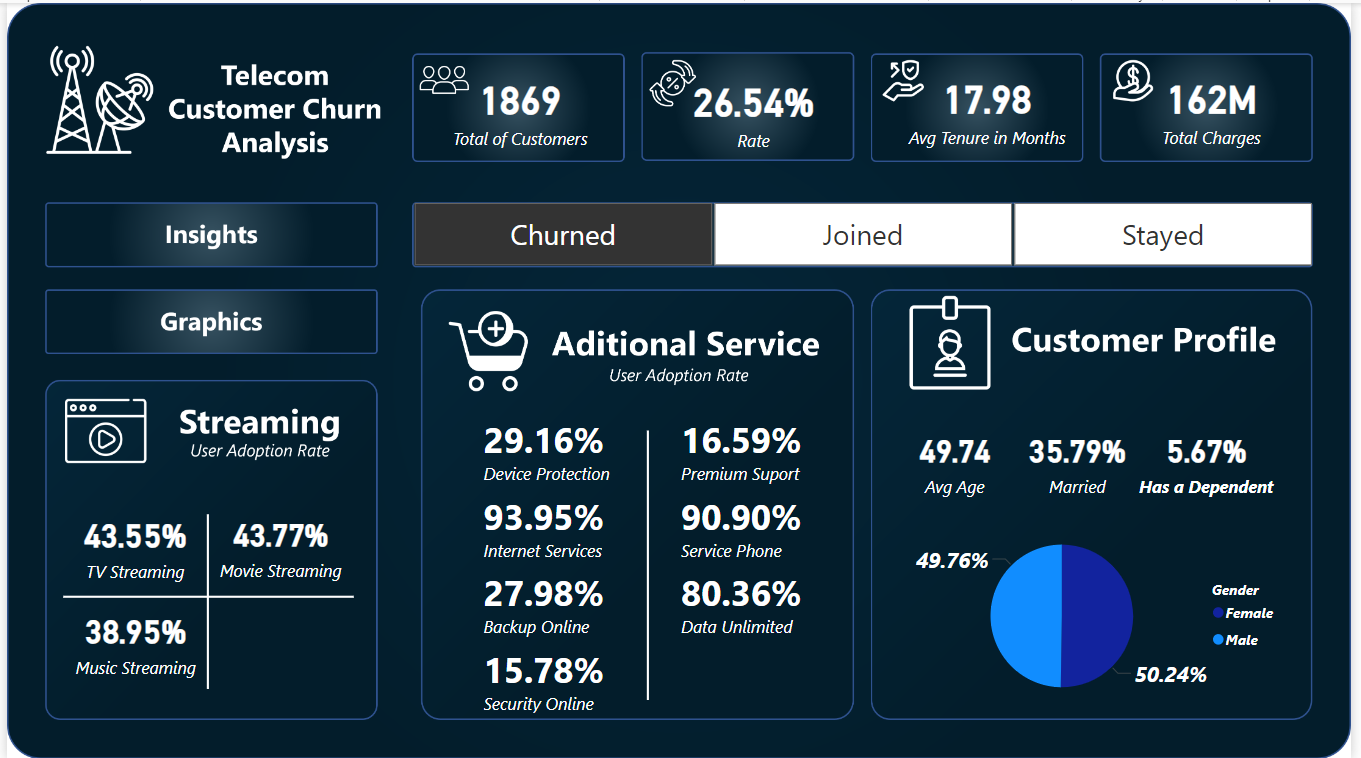

The page's visual inventory and layout, read from the dashboard file:
{"tool":"powerbi","page":{"name":"Page 1","canvas":[1280,720],"ordinal":0},"visuals":[{"type":"pieChart","fields":{"Category":["telecom_customer_churn.Gender"],"Y":["telecom_customer_churn.Total_Customers"]},"box":[856.7,488.3,363.3,191.7],"z":0},{"type":"card","fields":{"Values":["telecom_customer_churn.Married_Churned"]},"box":[968.3,390,103.3,91.7],"z":1000},{"type":"card","fields":{"Values":["telecom_customer_churn.Dependents_Churned"]},"box":[1071.7,390,141.7,91.7],"z":2000},{"type":"card","fields":{"Values":["telecom_customer_churn.Customer_Avg_Age"]},"box":[851.7,390,103.3,91.7],"z":3000},{"type":"multiRowCard","fields":{"Values":["telecom_customer_churn.Device_Protection","telecom_customer_churn.Internet_Services","telecom_customer_churn.Backup_Online","telecom_customer_churn.Security_Online"]},"box":[448.3,388.3,163.3,293.3],"z":4000},{"type":"card","fields":{"Values":["telecom_customer_churn.Total_Customers"]},"box":[406,55.2,165.7,91],"z":5000},{"type":"card","fields":{"Values":["Sum(telecom_customer_churn.Total Charges)"]},"box":[1063.3,53.3,168.3,91.7],"z":6000},{"type":"card","fields":{"Values":["telecom_customer_churn.Percentage_Selected_Status"]},"box":[611.9,56.7,198.5,91],"z":7000},{"type":"card","fields":{"Values":["telecom_customer_churn.Avg_Tenure_Months"]},"box":[843.3,53.3,181.7,91.7],"z":8000},{"type":"slicer","fields":{"Values":["telecom_customer_churn.Customer Status"]},"box":[361.7,183.3,905,73.3],"z":9000},{"type":"multiRowCard","fields":{"Values":["telecom_customer_churn.Premium_Tech_Suport","telecom_customer_churn.Service_Phone","telecom_customer_churn.Data_Unlimited"]},"box":[636.7,388.3,133.3,300],"z":10000},{"type":"card","fields":{"Values":["telecom_customer_churn.Music_Streaming"]},"box":[53.3,561.7,138.3,91.7],"z":11000},{"type":"card","fields":{"Values":["telecom_customer_churn.Movie_Streaming"]},"box":[191.7,470,138.3,91.7],"z":12000},{"type":"card","fields":{"Values":["telecom_customer_churn.TV_Streaming"]},"box":[30,470,185,91.7],"z":13000},{"type":"shape","box":[53.3,490,276.7,150],"z":14000},{"type":"shape","box":[98.3,486.7,185,166.7],"z":15000},{"type":"shape","box":[518.3,406.7,185,256.7],"z":16000},{"type":"actionButton","box":[33.3,183.3,318.3,73.3],"z":17000},{"type":"actionButton","box":[33.3,271.7,318.3,61.7],"z":18000}]}

Visuals, with their boxes in screenshot pixels (x1, y1, x2, y2), scaled from the page's 1280x720 canvas onto the 1361x758 screenshot:
pieChart - telecom_customer_churn.Gender x telecom_customer_churn.Total_Customers: [left=911, top=514, right=1297, bottom=716]
card - telecom_customer_churn.Married_Churned: [left=1030, top=411, right=1139, bottom=507]
card - telecom_customer_churn.Dependents_Churned: [left=1140, top=411, right=1290, bottom=507]
card - telecom_customer_churn.Customer_Avg_Age: [left=906, top=411, right=1015, bottom=507]
multiRowCard - telecom_customer_churn.Device_Protection x telecom_customer_churn.Internet_Services: [left=477, top=409, right=650, bottom=718]
card - telecom_customer_churn.Total_Customers: [left=432, top=58, right=608, bottom=154]
card - Sum(telecom_customer_churn.Total Charges): [left=1131, top=56, right=1310, bottom=153]
card - telecom_customer_churn.Percentage_Selected_Status: [left=651, top=60, right=862, bottom=155]
card - telecom_customer_churn.Avg_Tenure_Months: [left=897, top=56, right=1090, bottom=153]
slicer - telecom_customer_churn.Customer Status: [left=385, top=193, right=1347, bottom=270]
multiRowCard - telecom_customer_churn.Premium_Tech_Suport x telecom_customer_churn.Service_Phone: [left=677, top=409, right=819, bottom=725]
card - telecom_customer_churn.Music_Streaming: [left=57, top=591, right=204, bottom=688]
card - telecom_customer_churn.Movie_Streaming: [left=204, top=495, right=351, bottom=591]
card - telecom_customer_churn.TV_Streaming: [left=32, top=495, right=229, bottom=591]
shape: [left=57, top=516, right=351, bottom=674]
shape: [left=105, top=512, right=301, bottom=688]
shape: [left=551, top=428, right=748, bottom=698]
actionButton: [left=35, top=193, right=374, bottom=270]
actionButton: [left=35, top=286, right=374, bottom=351]
